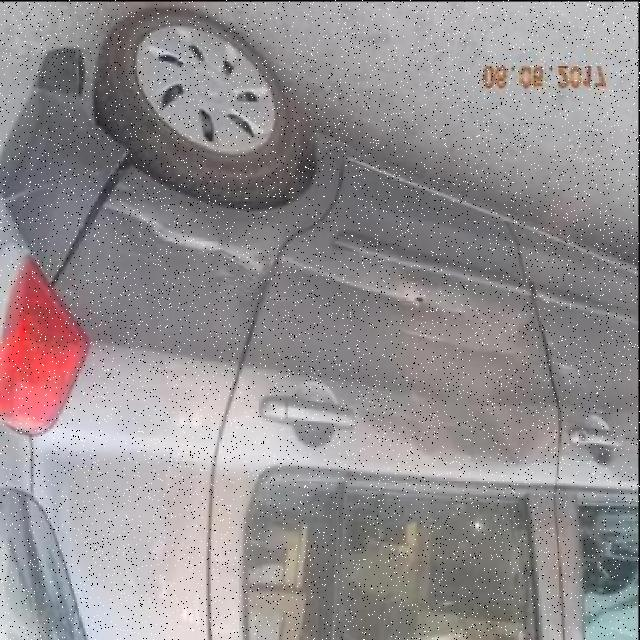damage: (362, 299, 558, 459), (104, 195, 282, 275), (279, 251, 469, 321), (51, 142, 135, 287), (394, 316, 524, 362), (360, 396, 485, 436), (223, 238, 278, 303), (3, 175, 59, 206), (551, 357, 592, 388), (269, 287, 303, 306), (547, 332, 559, 350), (414, 292, 427, 305)
